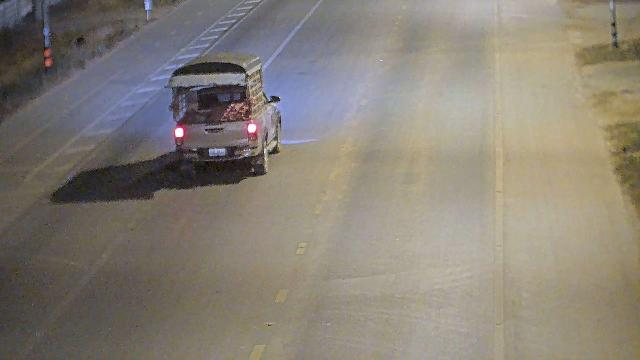pickup-truck: (165, 51, 282, 177)
